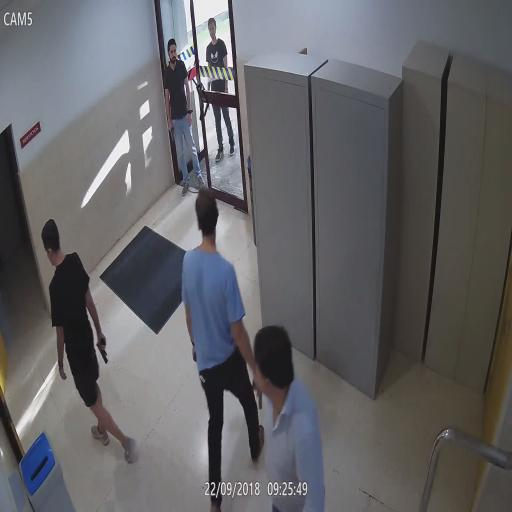Handgun: (250, 370, 264, 412), (95, 335, 109, 363), (166, 120, 175, 144)
